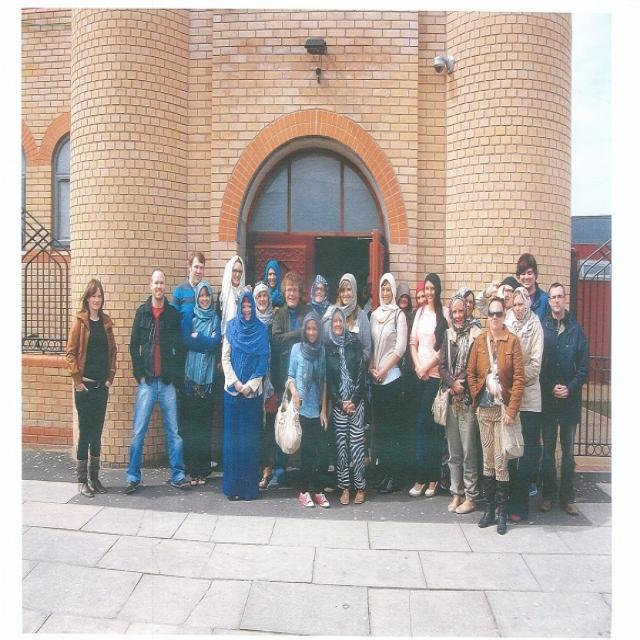body: (124, 265, 190, 492), (466, 296, 526, 536), (534, 280, 590, 518), (64, 275, 119, 497), (272, 308, 330, 510), (219, 287, 270, 499), (438, 292, 483, 516), (503, 285, 545, 524), (408, 270, 451, 498), (270, 270, 314, 488), (367, 268, 409, 494), (323, 303, 368, 505), (180, 278, 223, 486), (169, 249, 215, 366), (252, 279, 276, 489), (333, 272, 372, 364), (214, 252, 253, 343), (474, 274, 525, 332), (515, 252, 552, 328), (299, 272, 334, 348), (393, 280, 416, 374), (262, 258, 286, 314), (408, 278, 431, 331), (457, 286, 483, 328)
